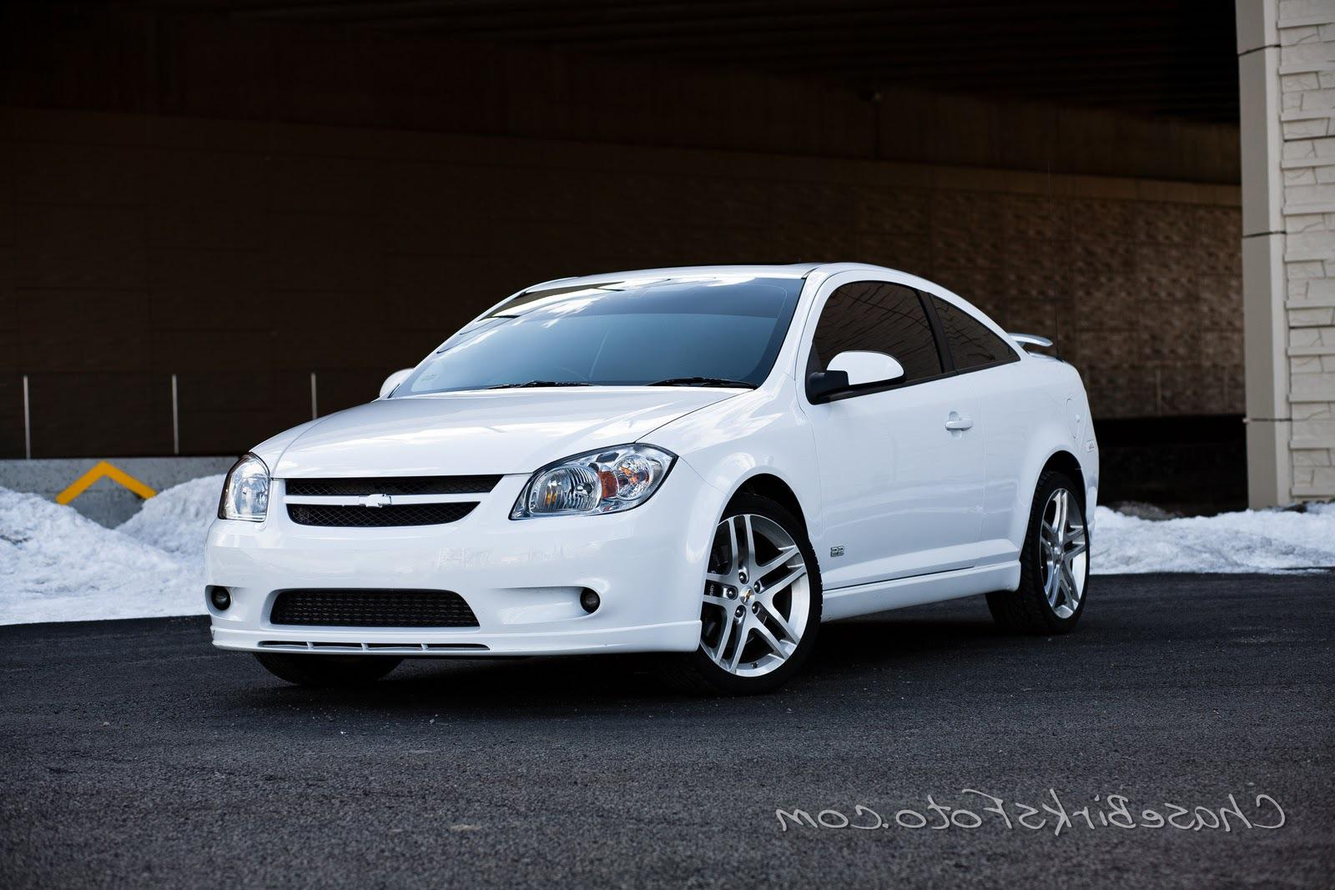Car: (169, 200, 1128, 737)
